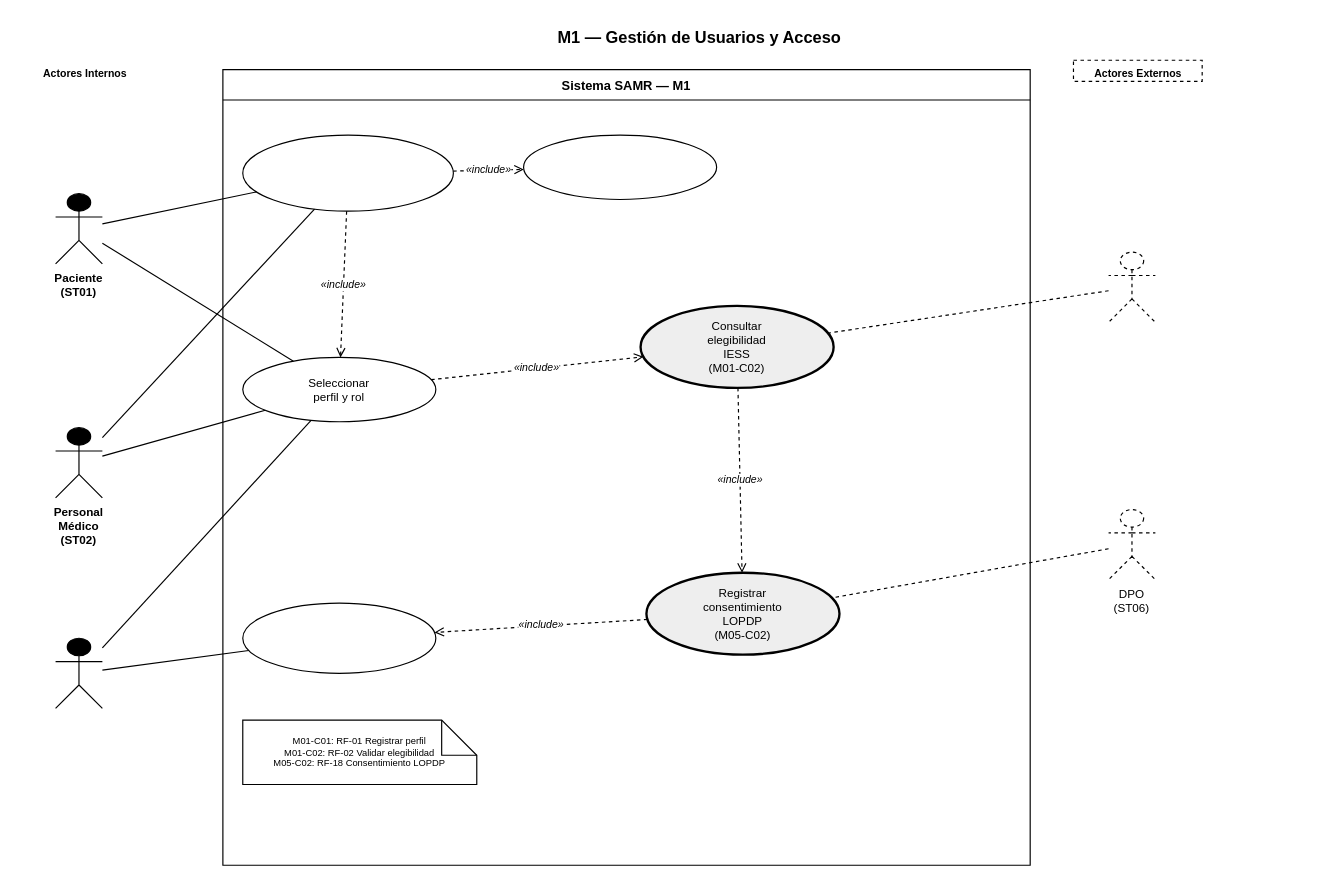
The diagram is 1338 pixels wide and 886 high, and some of its shapes have lost their labels. The centre of each missing label's shape, as x and y in pixels:
Activar servicios domiciliarios: the point at 339,637
API IESS (Externo): the point at 1131,286
Autenticar con MFA: the point at 619,166
Personal Administ. (ST03): the point at 78,672
Registrar perfil y gestionar roles (M01-C01): the point at 347,172
